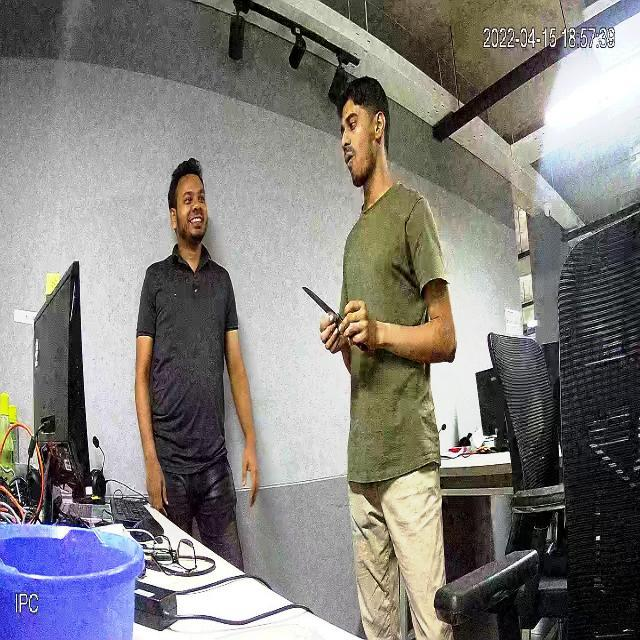Knife: (298, 278, 358, 348)
